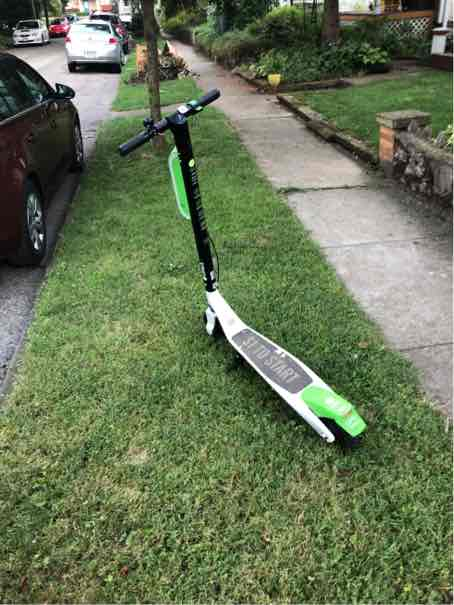scooter: (100, 86, 379, 451)
